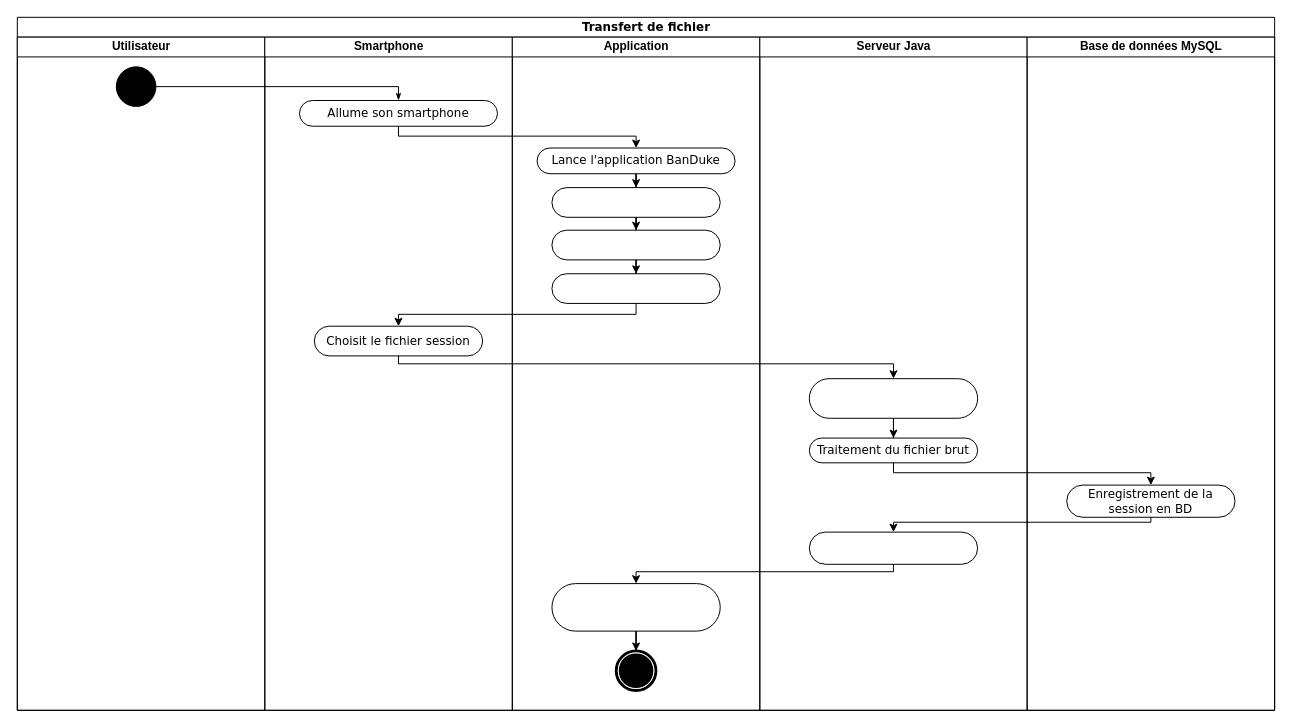
This 1292x728 diagram has some shape labels left out. Each missing label, with the centre of its shape:
"Ajoute une session" goes at pixel 635 288.
"Envoi de la session traitée à l'aplication, affichage des données sur l'app" goes at pixel 635 607.
"Envoi du fichier au serveur via l'application" goes at pixel 893 398.
"Login" goes at pixel 635 202.
"Ouvre son profil" goes at pixel 635 244.
"Récupération session avec l'auto-ID rempli" goes at pixel 893 547.
